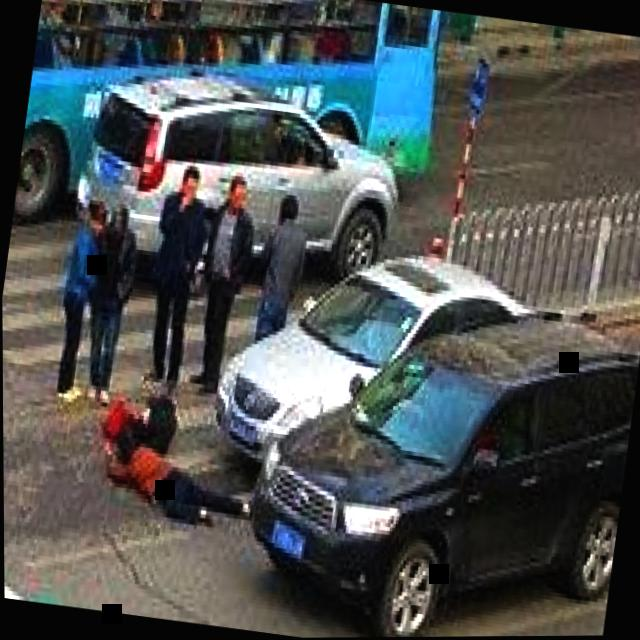Fall-Detected: (93, 403, 277, 539)
